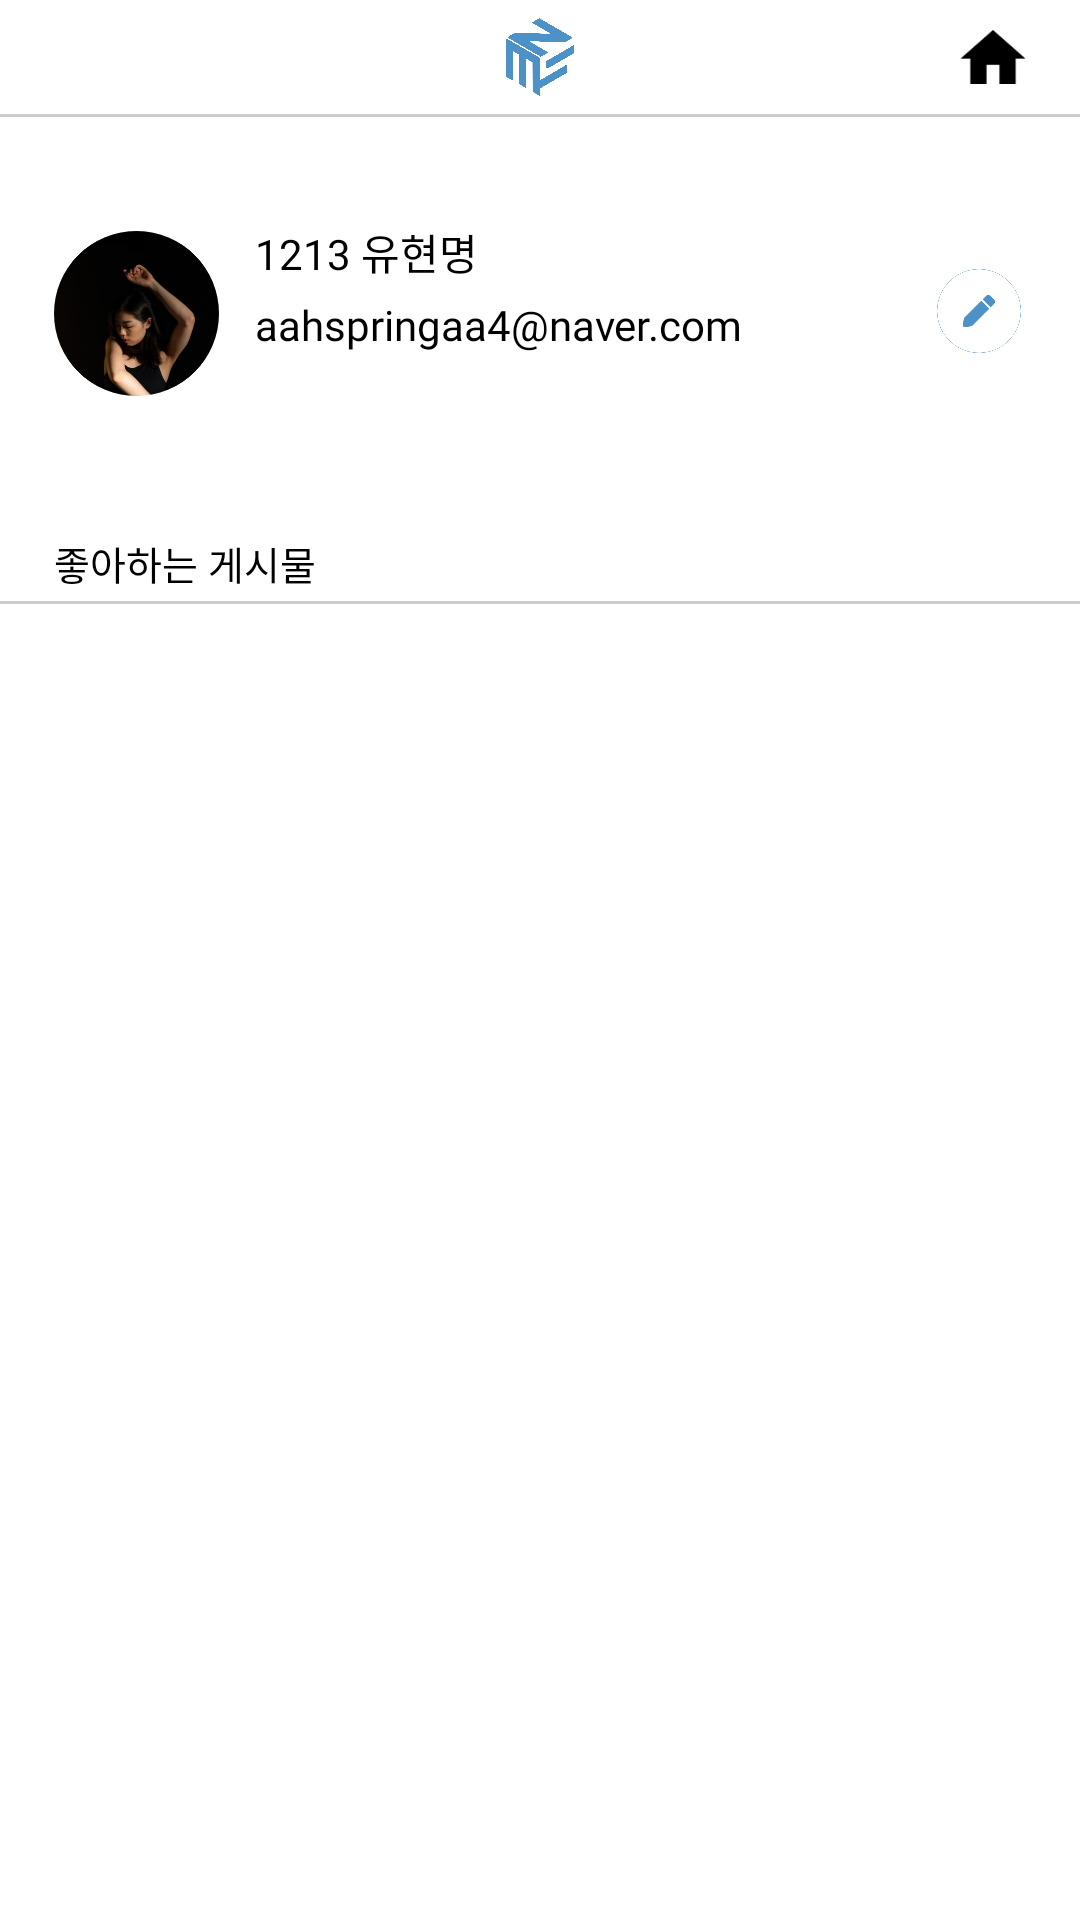

Point at icon controls on the screen. Image size 1080x1920, points as point (x, y).
home: point (993, 57)
mypage profile example: point (136, 313)
profileedit: point (979, 311)
